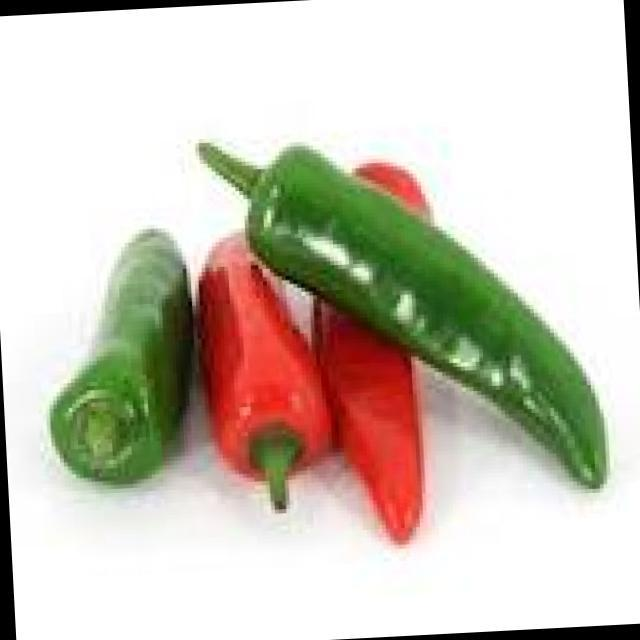Chili: (193, 93, 616, 530)
